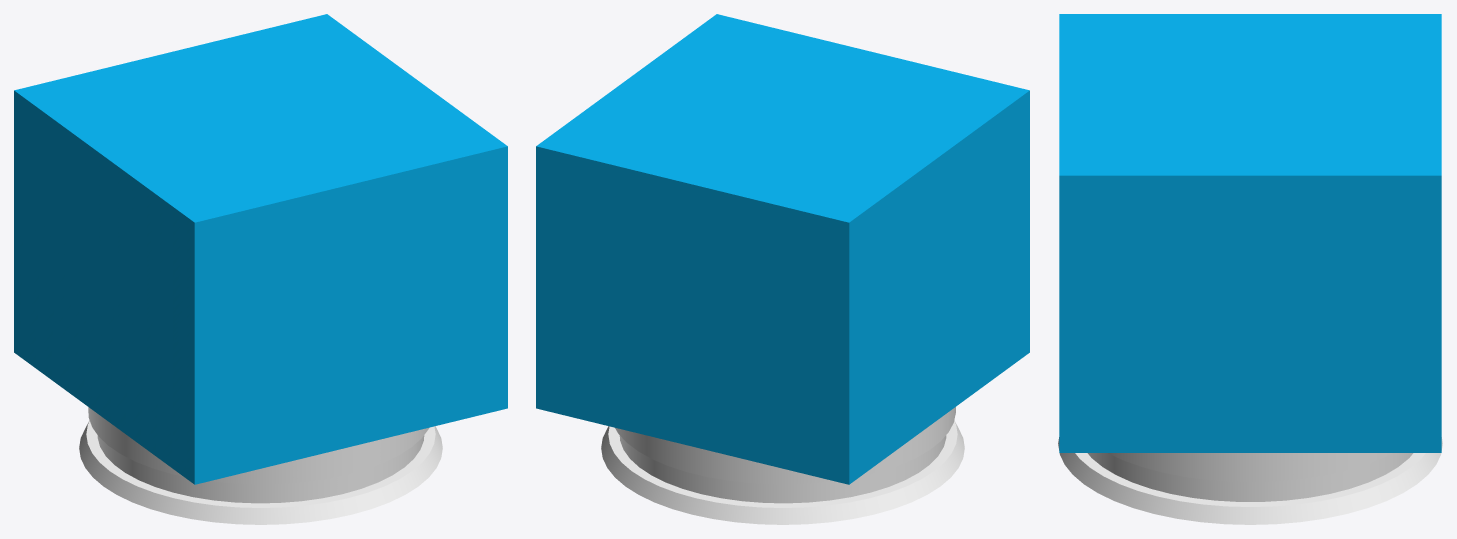
File: blender_camera.dae
The picture shows the model from 3 angles, left to right: view 1: azimuth 30°, elevation 25°; view 2: azimuth 150°, elevation 25°; view 3: azimuth 270°, elevation 25°; orthographic projection. The views are drawn at different scales.
Parts seen in each view (by area): view 1: camera; view 2: camera; view 3: camera.
Part boxes in pixels (x1,y1,x2,y2): camera: (14, 14, 507, 524); camera: (536, 14, 1029, 524); camera: (1058, 14, 1442, 524).
Size of the model in its own units: 0.0503 by 0.0503 by 0.052.
